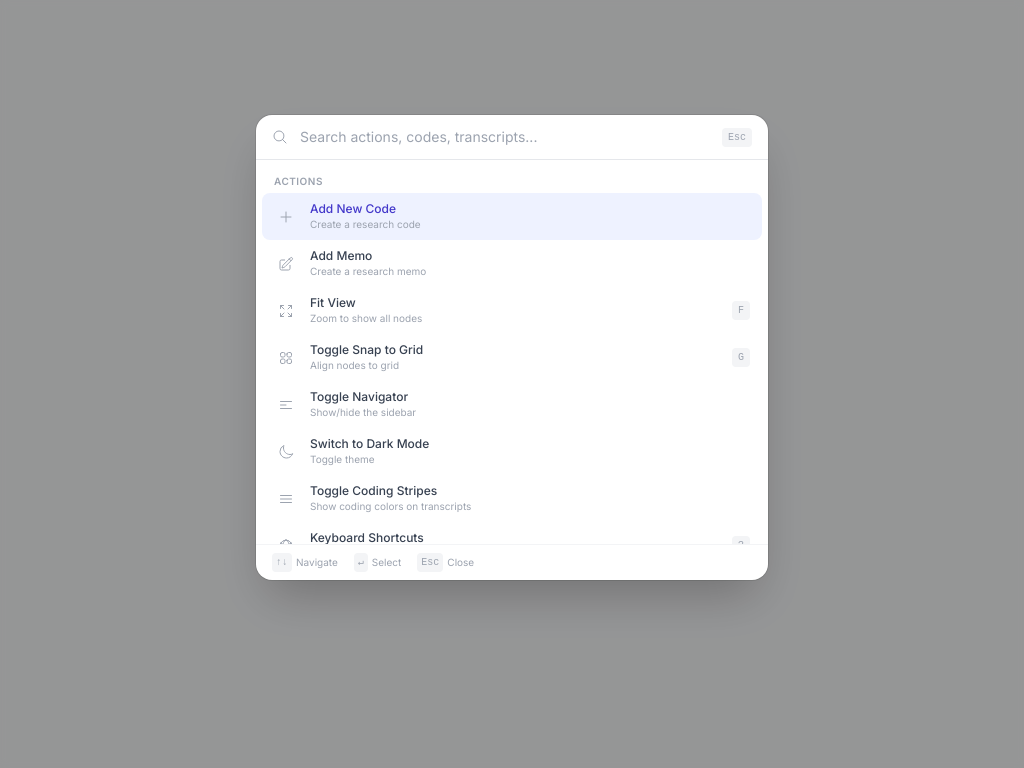
CommandPalette › shows no results message for unmatched search
Type "xyznonexistent" into the field with placeholder "Search actions, codes, transcripts...".
click(505, 137); type("xyznonexistent")  # box [300, 127, 710, 147]
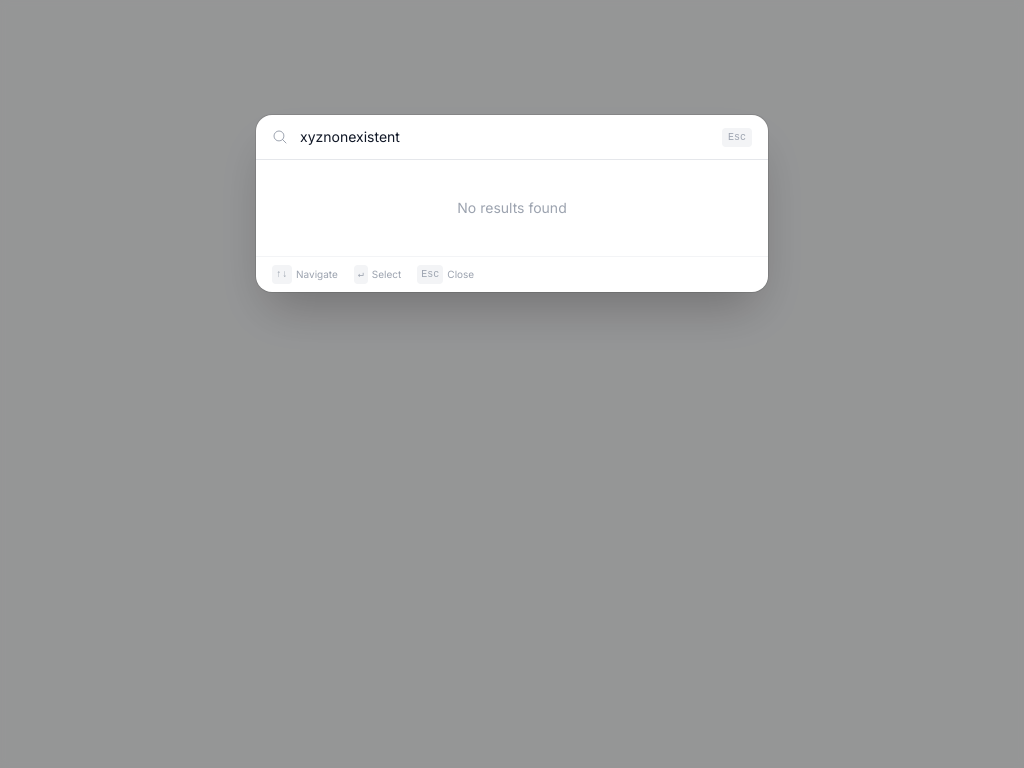
Expected: the text "No results found" is shown, [457, 199, 567, 216]
